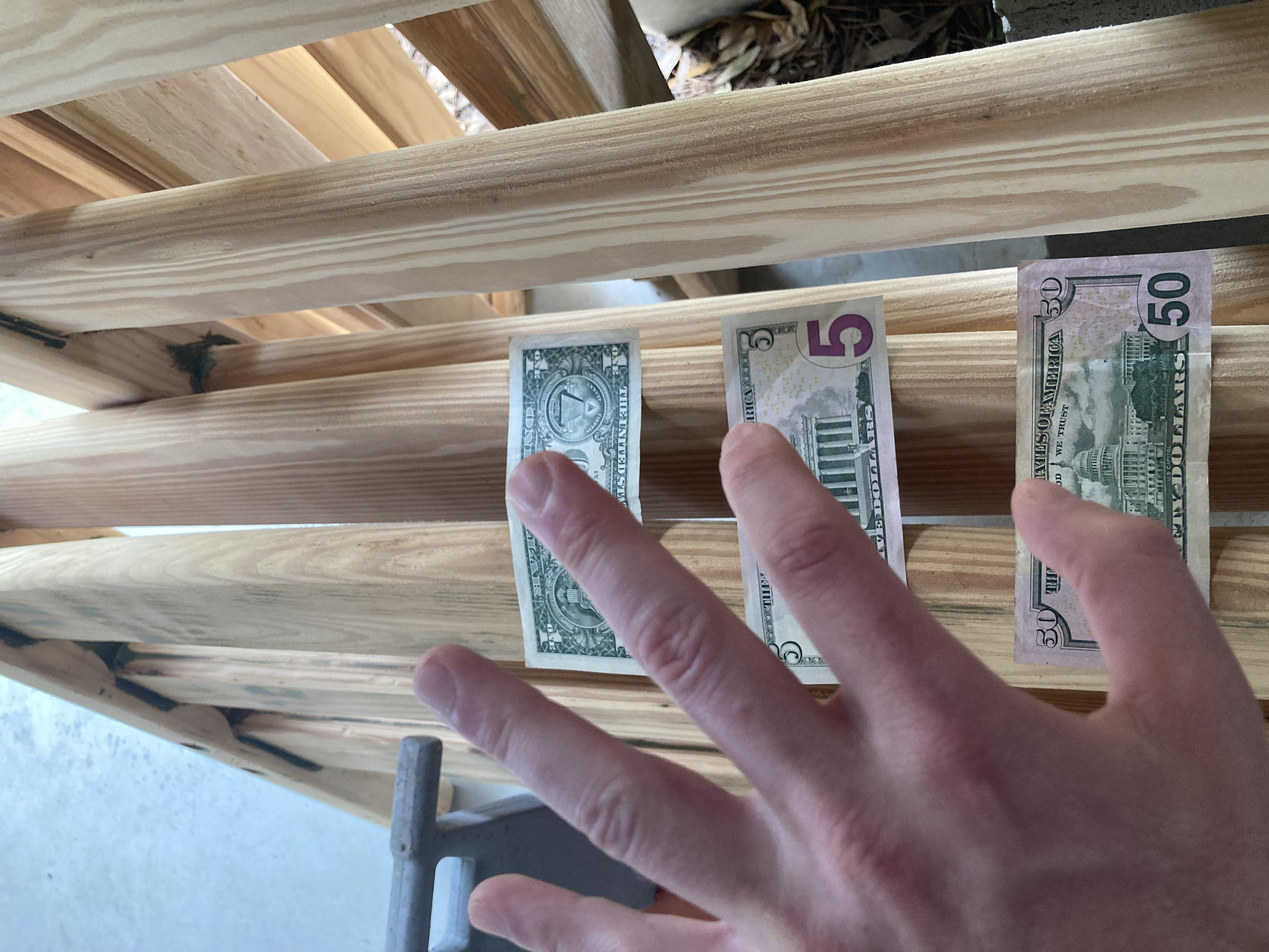fifty-back: (379, 762, 933, 908)
five-back: (355, 539, 875, 685)
one-back: (369, 379, 836, 496)
